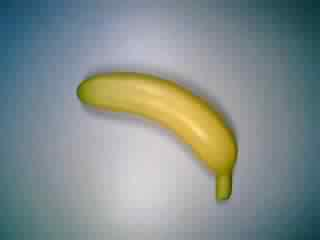banana: (71, 68, 241, 203)
